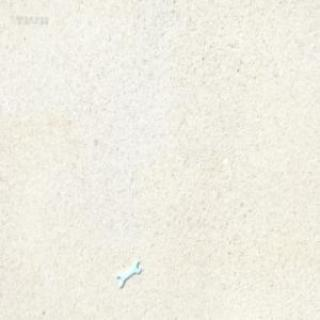Wrenchtrack_idkeyframe: (115, 256, 140, 287)
